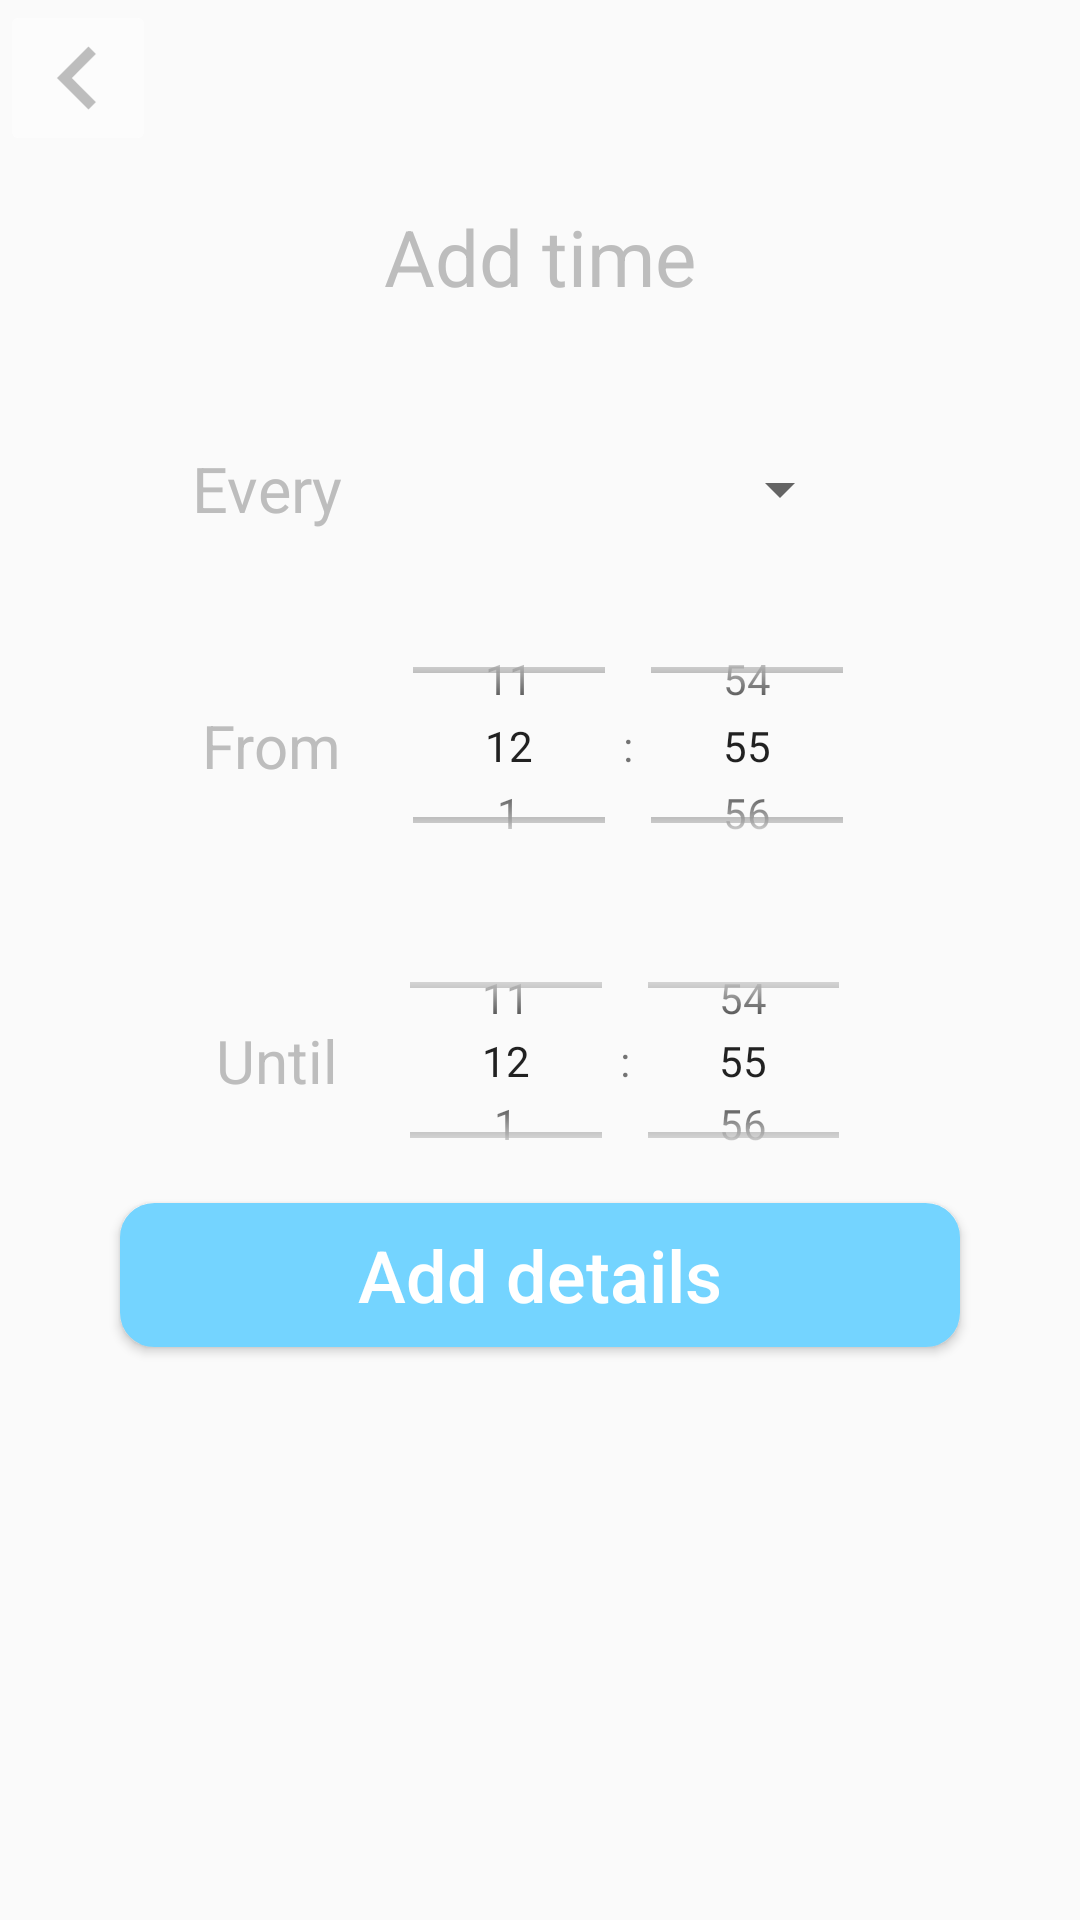

Screen size 1080 x 1920. Icon name, then its center in pixels as (x=x, y=y):
back: (x=76, y=78)
